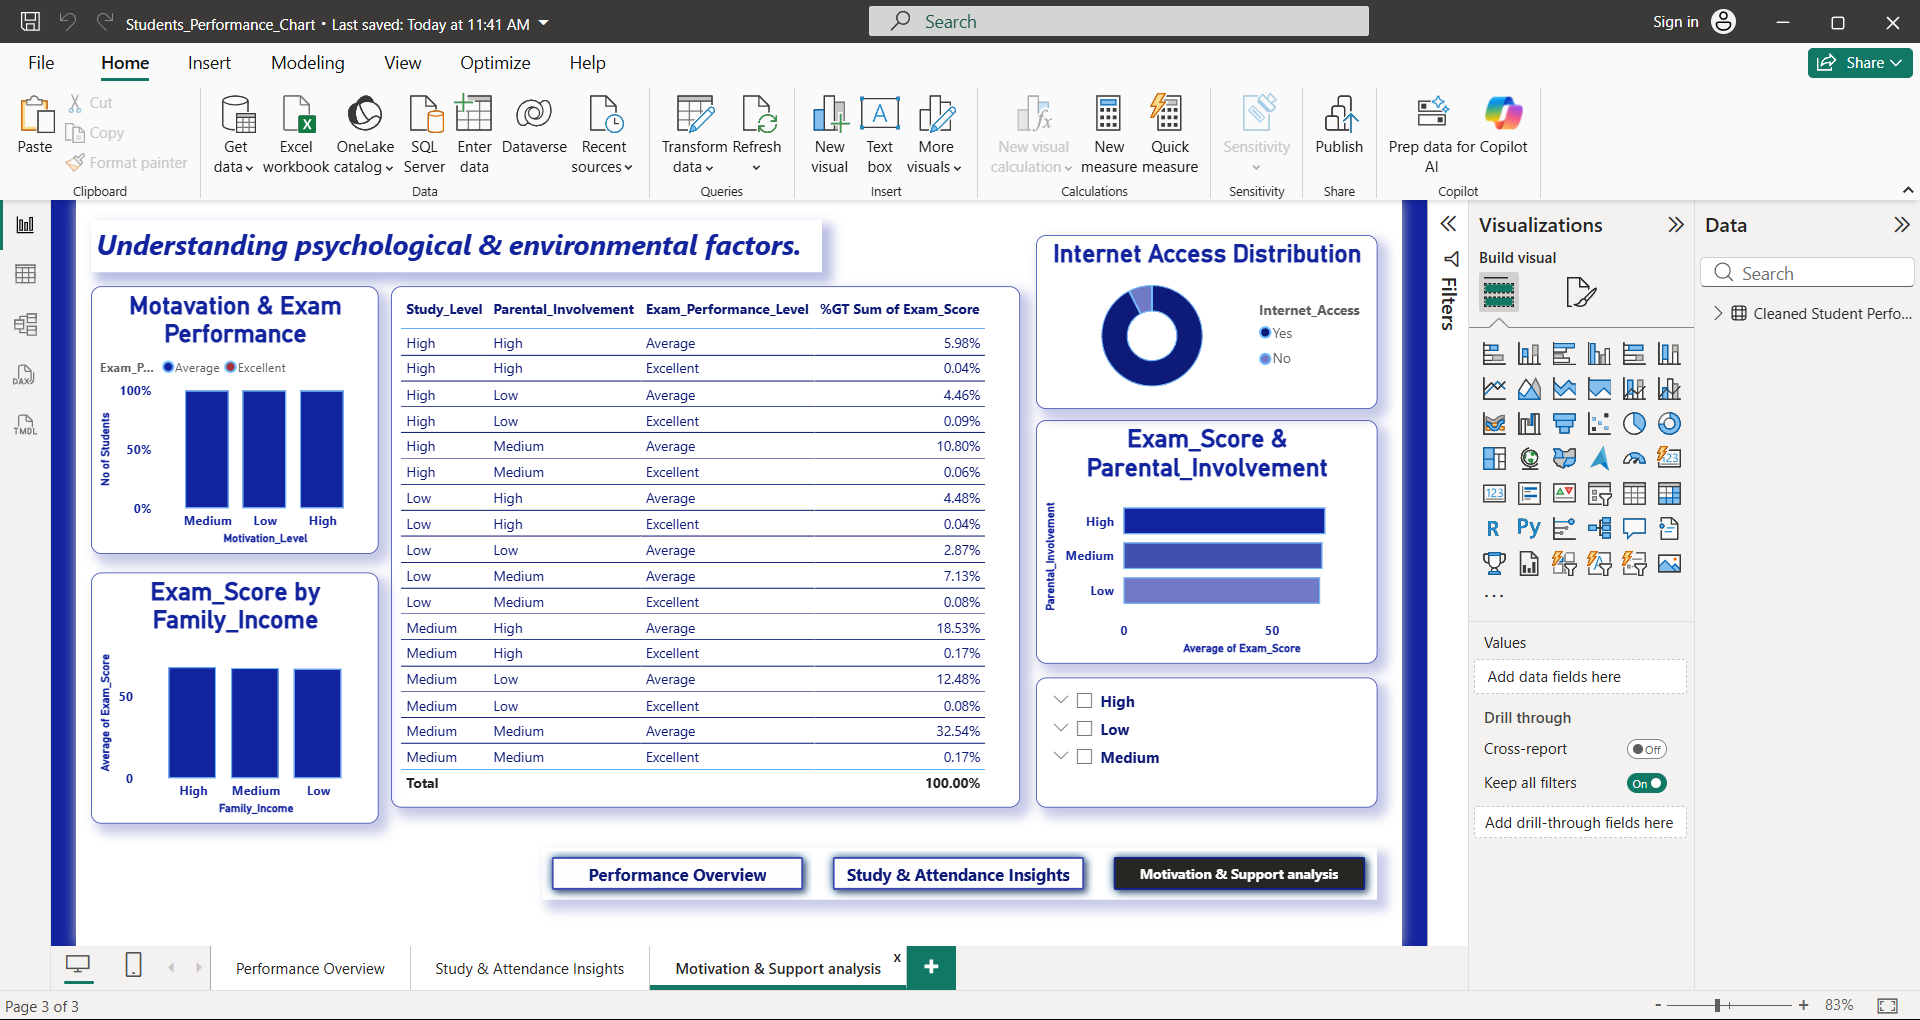

This screenshot's page, from the dashboard's own definition file:
{"tool":"powerbi","page":{"name":"Motivation & Support analysis","canvas":[1280,720],"ordinal":2},"visuals":[{"type":"textbox","box":[14.5,19.3,705.8,50.7],"z":0},{"type":"hundredPercentStackedColumnChart","title":"Motavation & Exam Performance","fields":{"Series":["Cleaned Student Performance 1.Exam_Performance_Level"],"Y":["CountNonNull(Cleaned Student Performance 1.Gender)"],"Category":["Cleaned Student Performance 1.Motivation_Level"]},"box":[14.5,83.2,277.5,258.2],"z":1000},{"type":"tableEx","fields":{"Values":["Cleaned Student Performance 1.Study_Level","Cleaned Student Performance 1.Parental_Involvement","Cleaned Student Performance 1.Exam_Performance_Level","Sum(Cleaned Student Performance 1.Exam_Score)"]},"box":[304,83.2,606.8,503.1],"z":2000},{"type":"barChart","title":"Exam_Score & Parental_Involvement","fields":{"Category":["Cleaned Student Performance 1.Parental_Involvement"],"Y":["Avg(Cleaned Student Performance 1.Exam_Score)"]},"box":[926.5,212.3,329.4,235.3],"z":3000},{"type":"columnChart","title":" Exam_Score by Family_Income","fields":{"Category":["Cleaned Student Performance 1.Family_Income"],"Y":["Avg(Cleaned Student Performance 1.Exam_Score)"]},"box":[14.5,359.5,277.5,242.5],"z":4000},{"type":"donutChart","title":"Internet Access Distribution","fields":{"Category":["Cleaned Student Performance 1.Internet_Access"],"Y":["CountNonNull(Cleaned Student Performance 1.Exam_Score)"]},"box":[926.5,33.8,329.4,167.7],"z":5000},{"type":"slicer","fields":{"Values":["Cleaned Student Performance 1.Motivation_Level","Cleaned Student Performance 1.Study_Level","Cleaned Student Performance 1.Attendance_Band"]},"box":[926.5,460.9,329.4,125.5],"z":6000},{"type":"pageNavigator","box":[450,624.9,805.9,50.7],"z":6002}]}

Visuals, with their boxes on the page's 1280x720 design canvas (x1, y1, x2, y2). These are canvas units, not pixel positions in the 1920x1020 screenshot, which may show the page scaled, cropped or inside an application window:
textbox: BBox(14, 19, 720, 70)
"Motavation & Exam Performance" hundredPercentStackedColumnChart: BBox(14, 83, 292, 341)
tableEx - Cleaned Student Performance 1.Study_Level x Cleaned Student Performance 1.Parental_Involvement: BBox(304, 83, 911, 586)
"Exam_Score & Parental_Involvement" barChart: BBox(926, 212, 1256, 448)
" Exam_Score by Family_Income" columnChart: BBox(14, 360, 292, 602)
"Internet Access Distribution" donutChart: BBox(926, 34, 1256, 202)
slicer - Cleaned Student Performance 1.Motivation_Level x Cleaned Student Performance 1.Study_Level: BBox(926, 461, 1256, 586)
pageNavigator: BBox(450, 625, 1256, 676)
